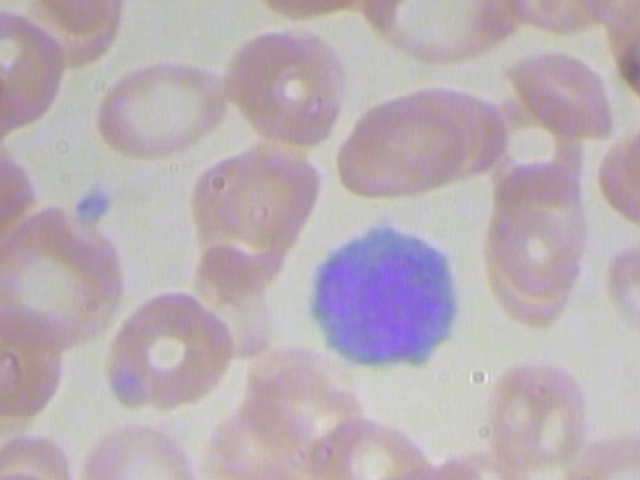Platelets: (64, 180, 120, 226)
RBC: (0, 204, 126, 359), (84, 46, 232, 169), (184, 138, 328, 260), (104, 286, 239, 415), (223, 21, 352, 148), (338, 91, 468, 206), (474, 353, 593, 465), (499, 41, 621, 142), (378, 88, 500, 188), (314, 407, 450, 480), (0, 3, 69, 142), (82, 418, 210, 480), (600, 231, 640, 345), (556, 426, 640, 480)
WBC: (291, 210, 468, 376)
